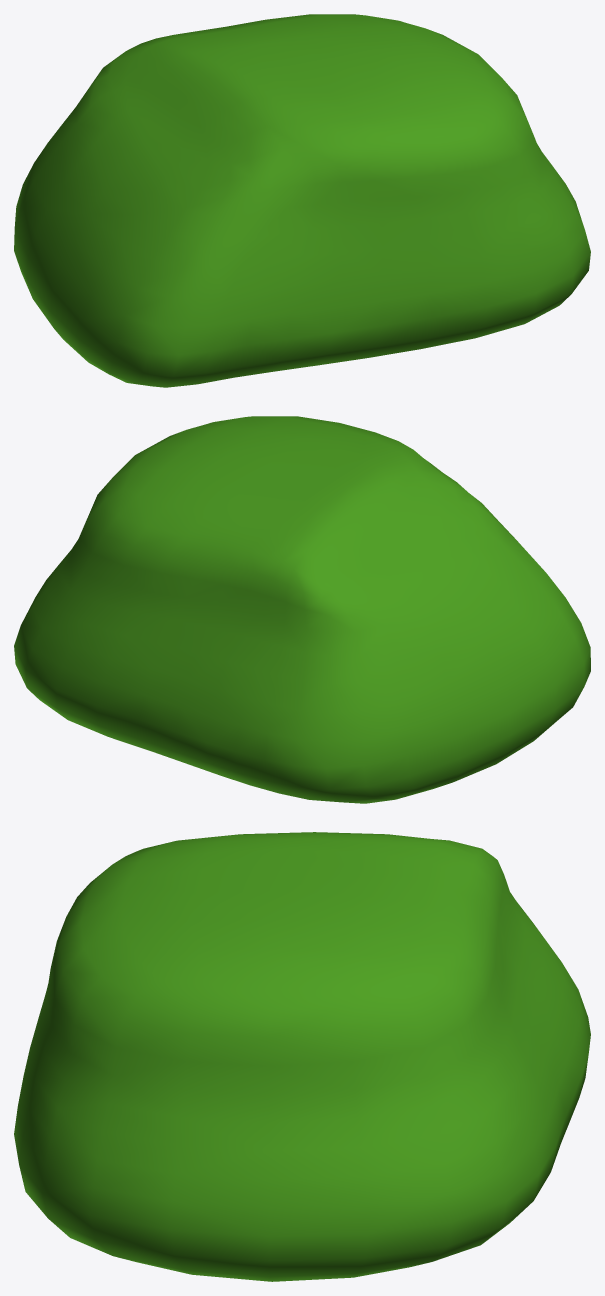
The model's file is Bush 2.fbx.
3 views of the same model, one above another, from view 1: azimuth 30°, elevation 25°; view 2: azimuth 150°, elevation 25°; view 3: azimuth 270°, elevation 25° (orthographic). The views are drawn at different scales.
Parts seen in each view (by area): view 1: Cube; view 2: Cube; view 3: Cube.
Part boxes in pixels (x1,y1,x2,y2): Cube: (14,14,590,387); Cube: (14,416,590,803); Cube: (14,832,590,1281).
Size of the model in its own units: 355 by 173 by 301.
